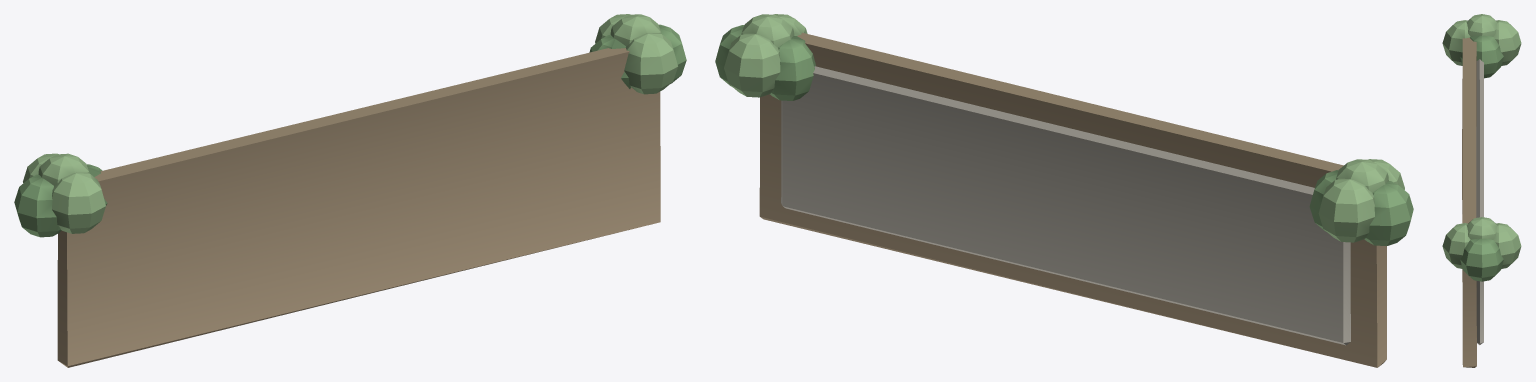
File: mall_floor2_sign_low.glb
The picture shows the model from 3 angles, left to right: view 1: azimuth 30°, elevation 25°; view 2: azimuth 150°, elevation 25°; view 3: azimuth 270°, elevation 25°; orthographic projection. The views are drawn at different scales.
Bounding box in the file's own units: 2.68 × 0.771 × 0.3787.
